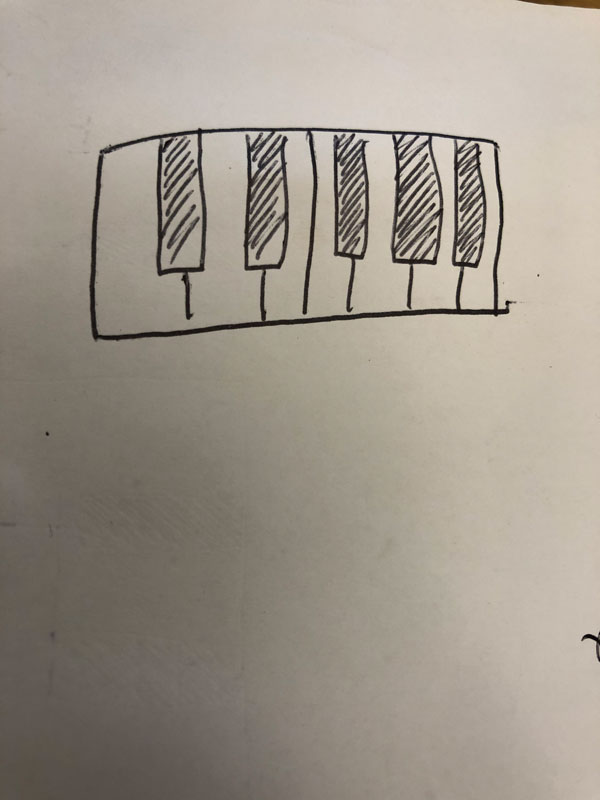piano: (81, 117, 514, 343)
